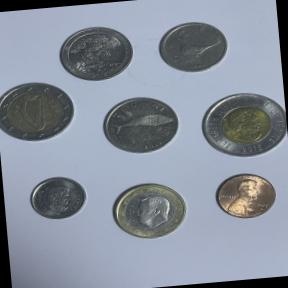coin: (193, 81, 288, 167), (96, 88, 190, 165), (106, 174, 197, 246), (0, 76, 82, 150), (56, 22, 140, 86), (208, 166, 282, 225), (26, 171, 93, 226)
